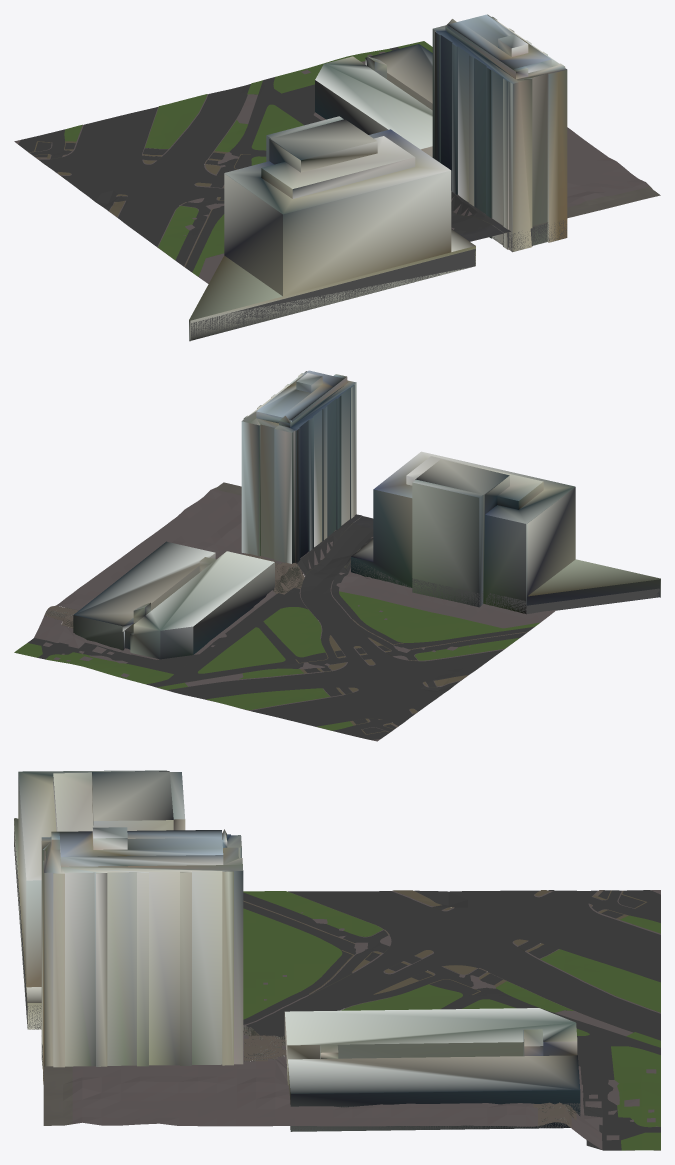
3 renders of one model, top to bottom at view 1: azimuth 30°, elevation 25°; view 2: azimuth 150°, elevation 25°; view 3: azimuth 270°, elevation 25°, orthographic. The views are drawn at different scales.
Parts seen in each view (by area): view 1: c_p03_m10; view 2: c_p03_m10; view 3: c_p03_m10.
Part boxes in pixels (x1=…): c_p03_m10: x1=14, y1=14, x2=660, y2=341; c_p03_m10: x1=14, y1=370, x2=660, y2=741; c_p03_m10: x1=14, y1=770, x2=660, y2=1150.
Size of the model in its own units: 151 by 56.72 by 134.
